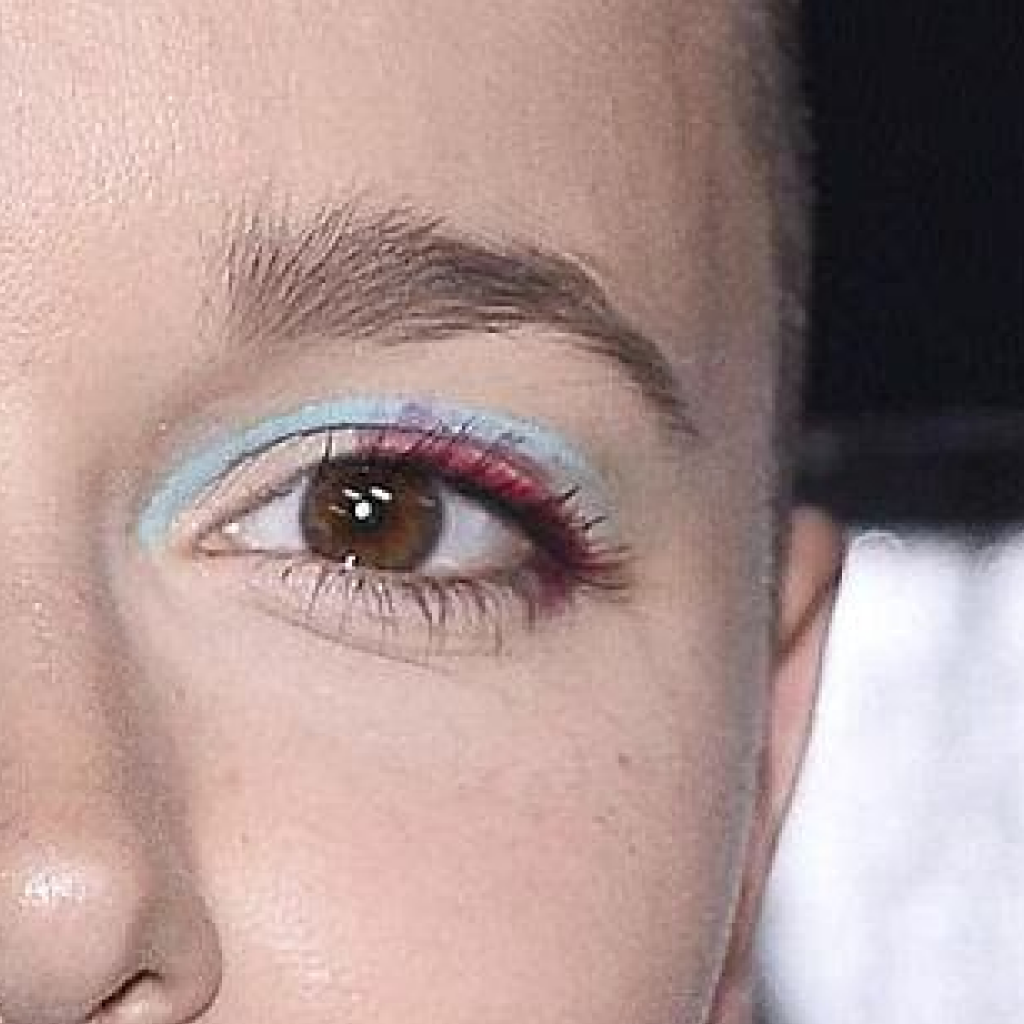iris: (303, 461, 442, 571)
pupil: (339, 483, 393, 531)
sclera: (417, 477, 537, 576), (221, 473, 312, 554)
